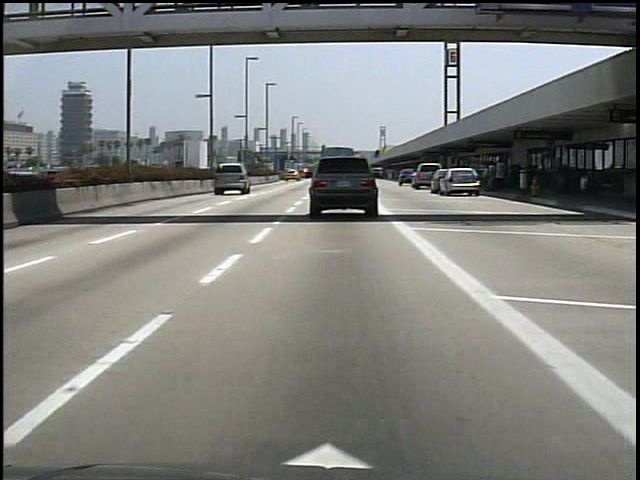person: (492, 155, 512, 194), (481, 161, 496, 194)
